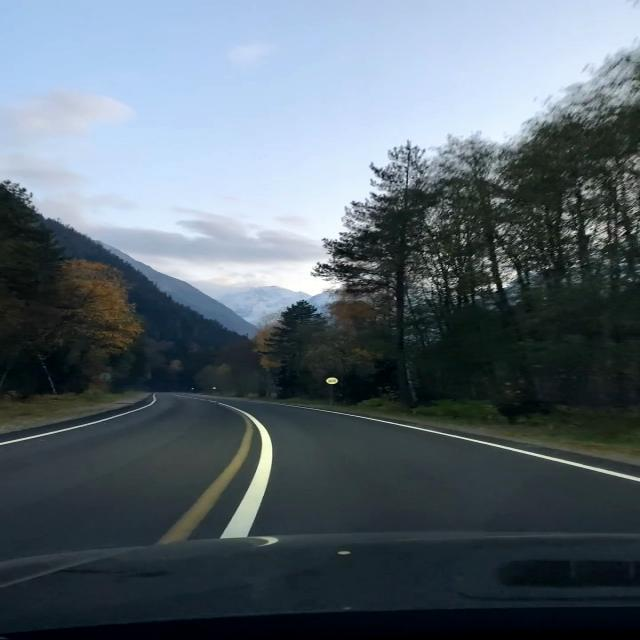lane: (278, 404, 640, 482), (158, 418, 253, 544), (0, 394, 156, 445), (220, 405, 273, 539)
road: (3, 394, 637, 640)
